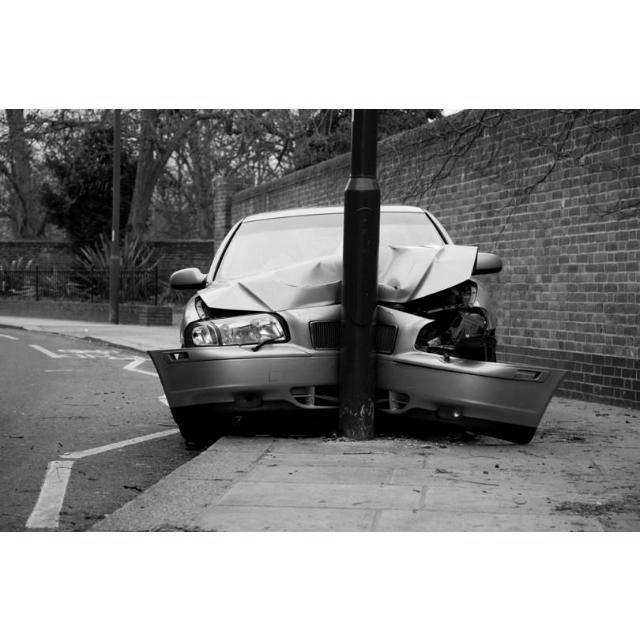Headlight-damage: (389, 292, 494, 352)
bonnet-dent: (302, 241, 477, 306), (191, 291, 280, 320)
front-bumper-dent: (148, 346, 278, 431), (423, 361, 540, 426)
